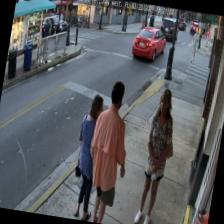person: (79, 78, 139, 224), (132, 86, 179, 224), (66, 92, 109, 221)
